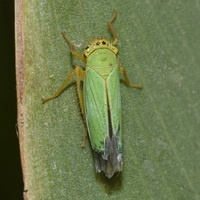insect: (41, 10, 142, 178)
